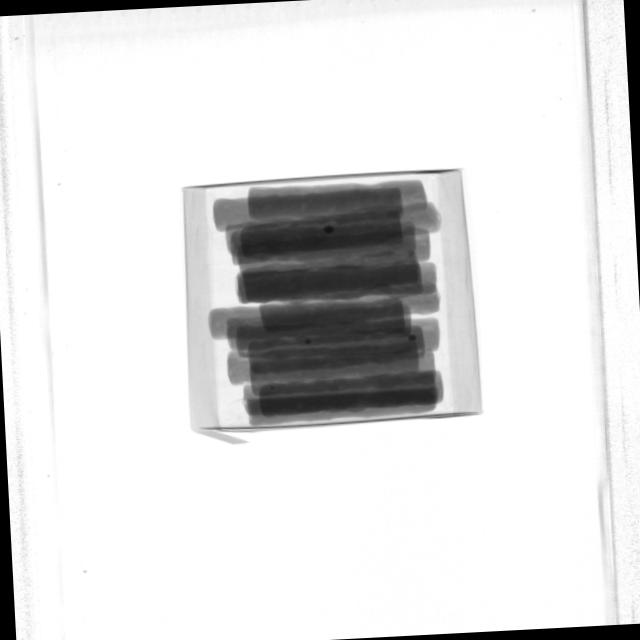ym: (324, 225, 335, 235), (409, 335, 417, 341), (306, 339, 312, 344), (270, 386, 275, 390)
